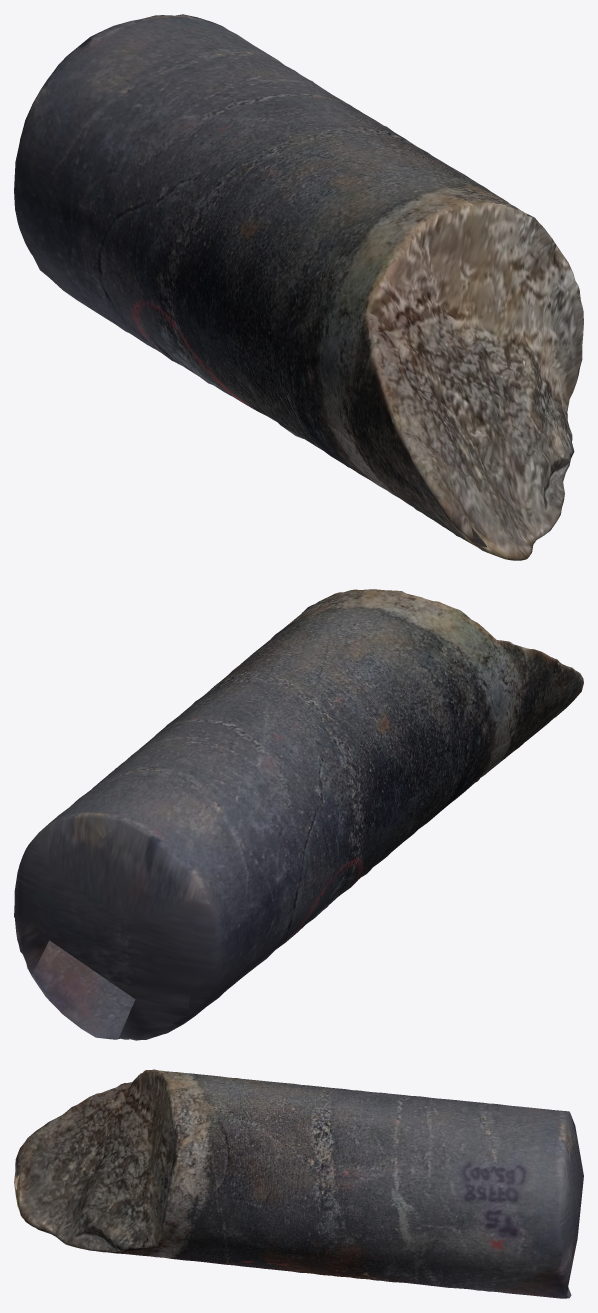
File: PECLD07758 T5.glb
3 views of the same model, one above another, from view 1: azimuth 30°, elevation 25°; view 2: azimuth 150°, elevation 25°; view 3: azimuth 270°, elevation 25° (orthographic). The views are drawn at different scales.
Parts seen in each view (by area): view 1: baked_mesh; view 2: baked_mesh; view 3: baked_mesh.
Boxes of the visible parts, bbox=[...] form: baked_mesh: bbox=[14, 14, 583, 560]; baked_mesh: bbox=[14, 589, 583, 1040]; baked_mesh: bbox=[14, 1069, 583, 1298].
Size of the model in its own units: 0.2402 by 0.265 by 0.669.
1 material, 1 textured.
